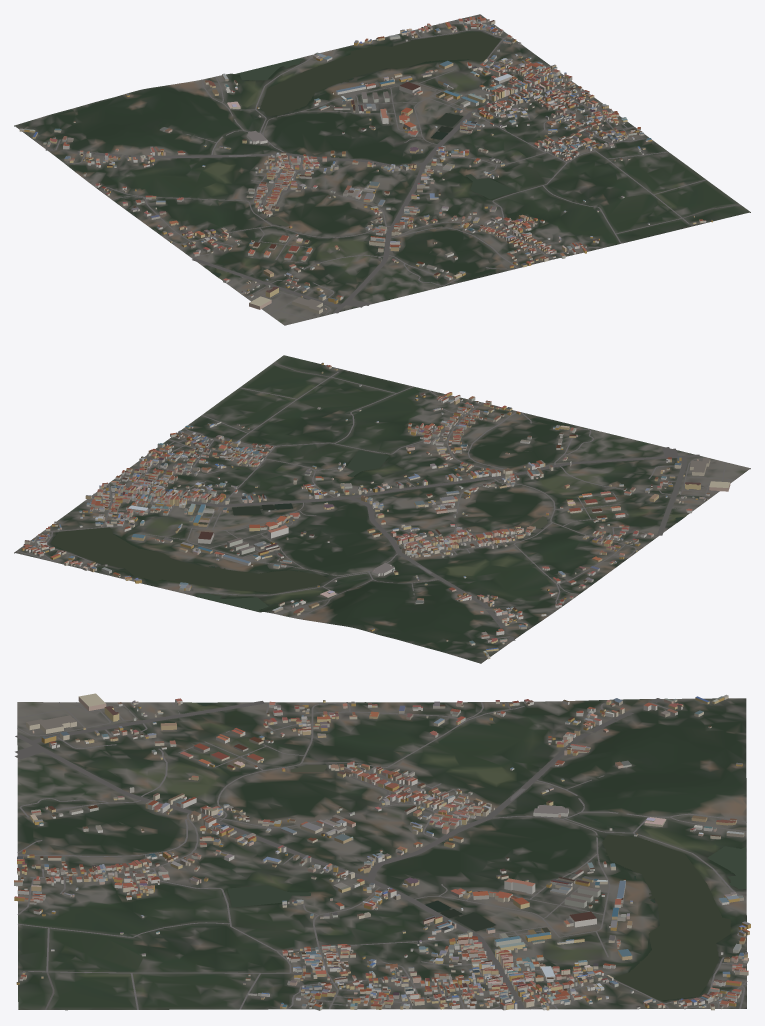
3 views of the same model, one above another, from view 1: azimuth 30°, elevation 25°; view 2: azimuth 150°, elevation 25°; view 3: azimuth 270°, elevation 25° (orthographic). The views are drawn at different scales.
Visible parts, largest first — view 1: ground, buildings, roads, water; view 2: ground, buildings, roads, water; view 3: ground, buildings, water, roads.
Part boxes in pixels (x1,y1,x2,y2): ground: (14, 14, 750, 325); buildings: (19, 16, 712, 313); roads: (45, 16, 740, 319); water: (212, 31, 516, 277); ground: (14, 355, 750, 663); buildings: (21, 362, 730, 659); roads: (17, 362, 735, 640); water: (50, 450, 683, 611); ground: (17, 698, 746, 1010); buildings: (14, 693, 750, 1010); water: (196, 702, 746, 1000); roads: (15, 698, 747, 1009).
Size of the model in its own units: 1423 by 28.63 by 1417.
